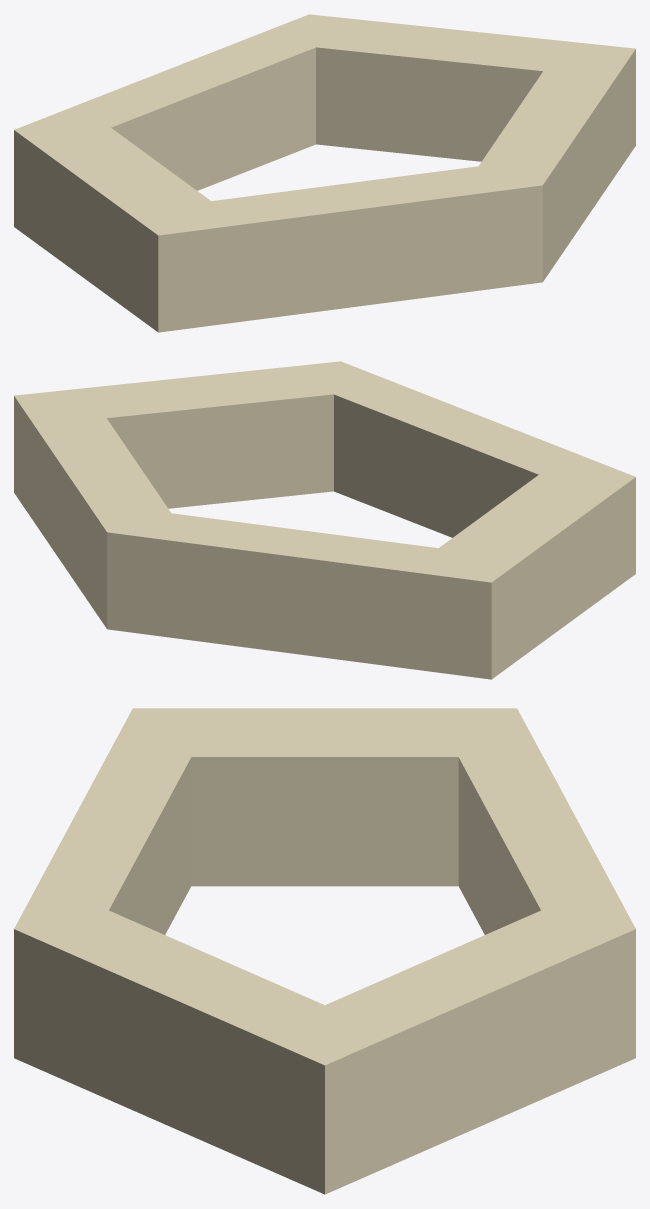
File: prop-selvage-cord-hank-nm1.fbx
3 views of the same model, one above another, from view 1: azimuth 30°, elevation 25°; view 2: azimuth 150°, elevation 25°; view 3: azimuth 270°, elevation 25° (orthographic). The views are drawn at different scales.
Visible parts, largest first — view 1: prop-selvage-cord-hank-nm1; view 2: prop-selvage-cord-hank-nm1; view 3: prop-selvage-cord-hank-nm1.
Boxes of the visible parts, x1,y1,x2,y2 form: prop-selvage-cord-hank-nm1: (14,14,635,332); prop-selvage-cord-hank-nm1: (14,361,635,679); prop-selvage-cord-hank-nm1: (14,708,635,1194).
Size of the model in its own units: 11.74 by 1.98 by 8.64.
